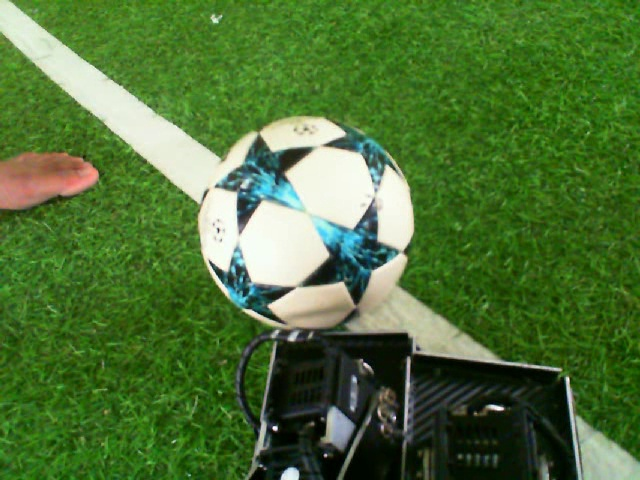ball: (195, 112, 416, 333)
